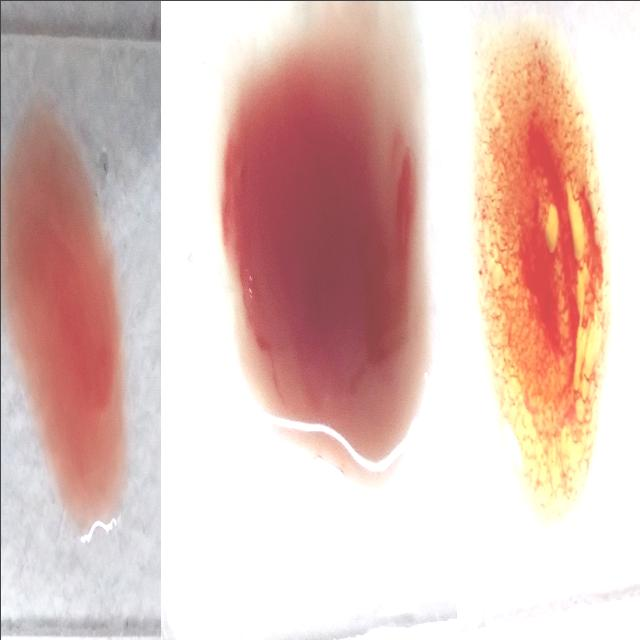B: (477, 14, 608, 526)
